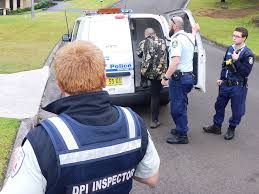Person: (1, 38, 140, 194), (203, 26, 254, 138), (166, 15, 199, 143), (137, 27, 166, 127)
